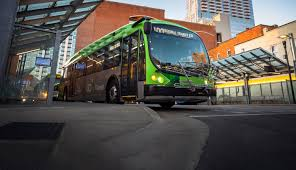bus: (58, 15, 212, 108)
